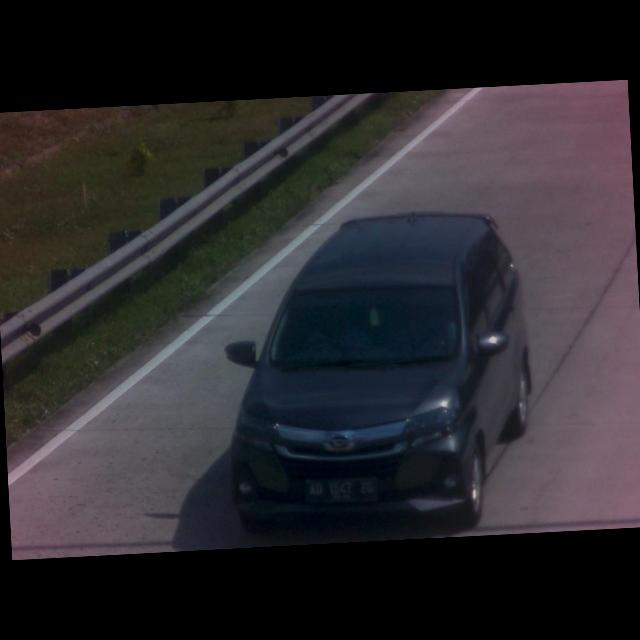plate: (303, 473, 377, 505)
